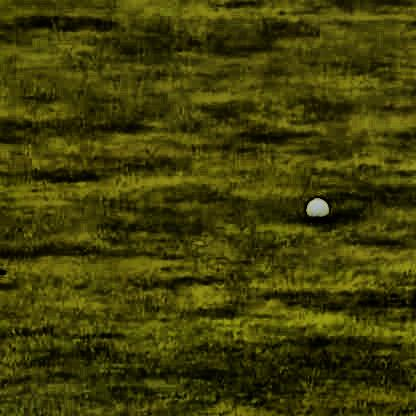golfball: (301, 196, 326, 220)
